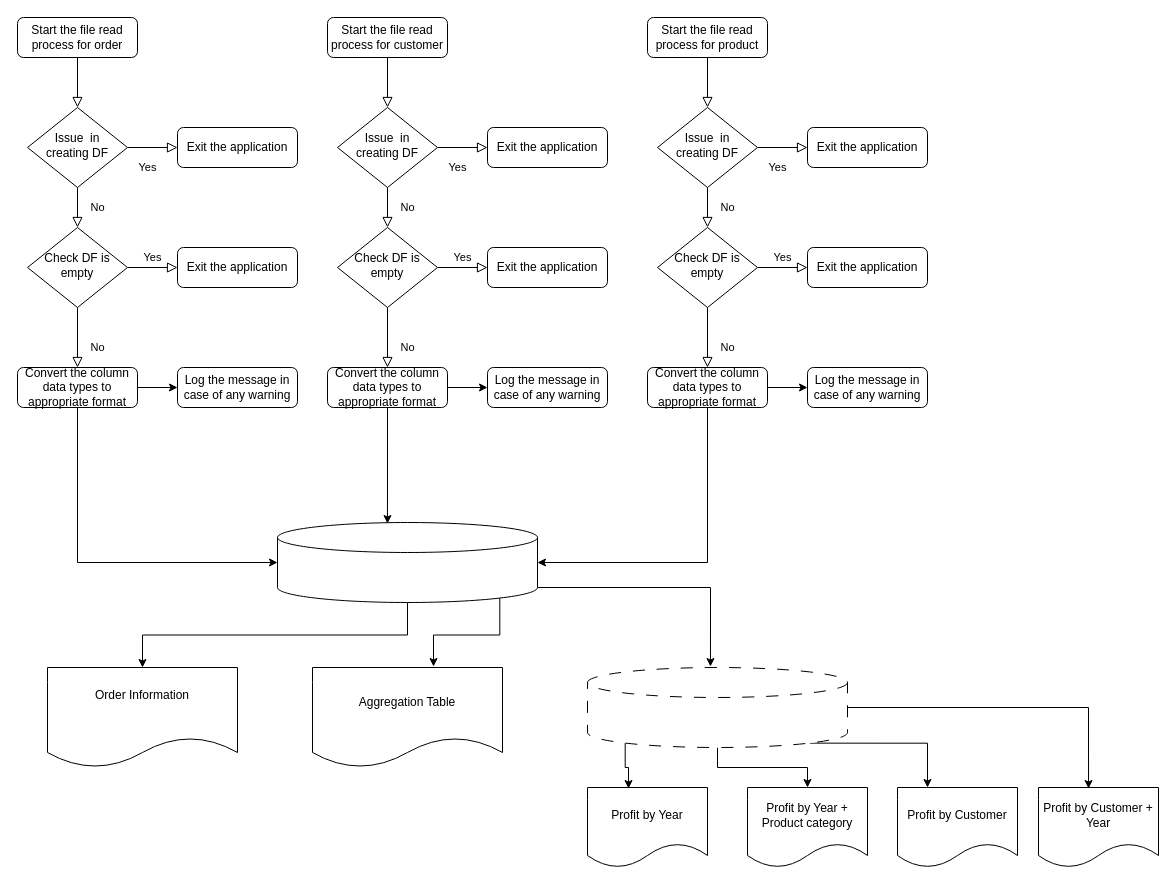
This 1176x885 diagram has some shape labels left out. The centre of each missing label's shape, as x and y in pixels:
Master DF: pixel 407 562
Temp View: pixel 717 707
